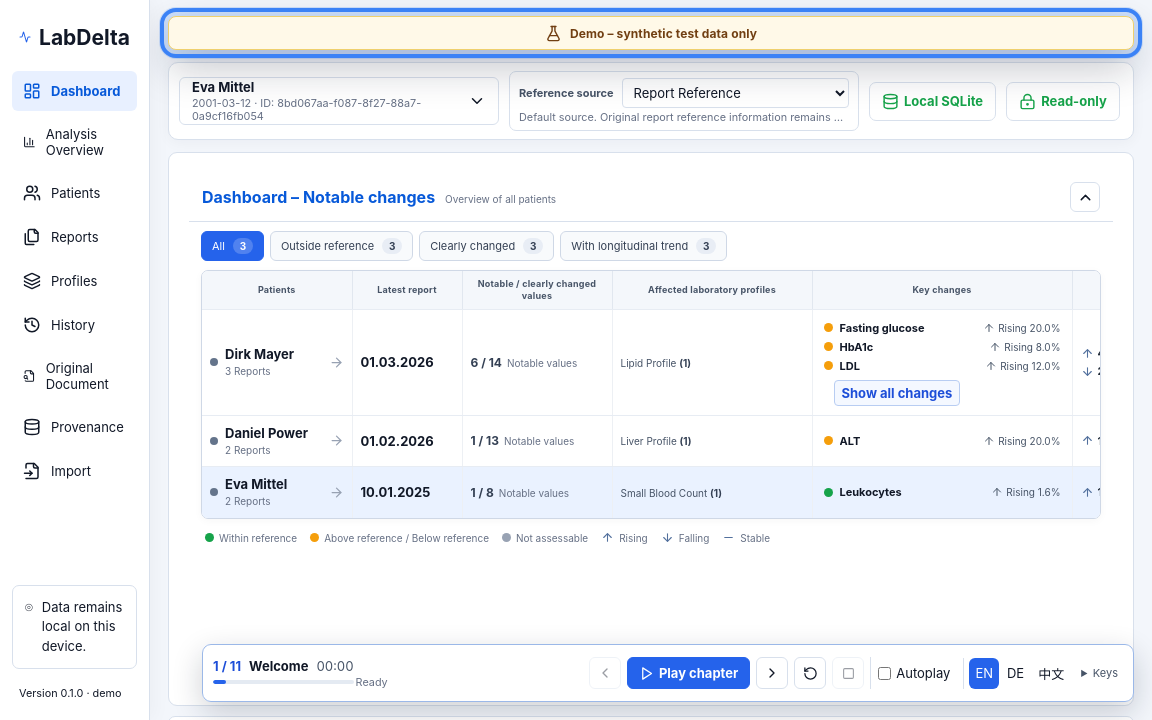
Scenario: persisted synthetic demo flow › persists simplified Chinese and applies it without restart
Expected: the heading "Dashboard – Notable changes" is shown, [202, 187, 435, 207]
Click the button "中文".
click(1051, 673)  # box [1032, 658, 1070, 688]
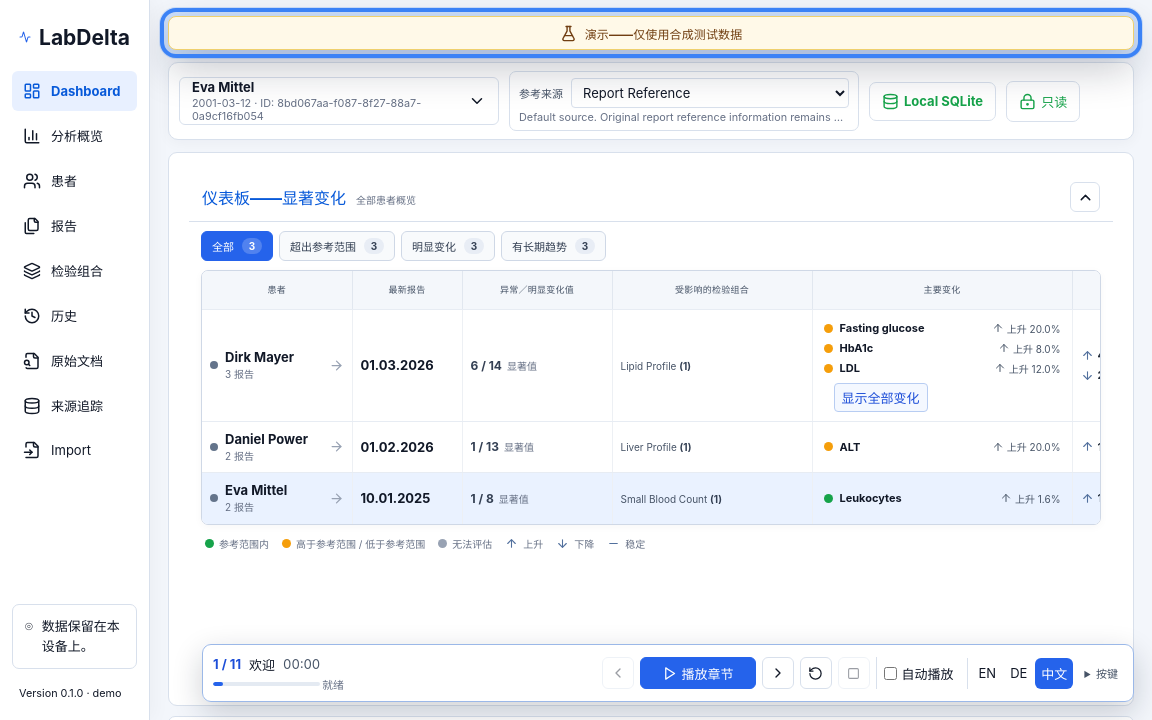
Expected: the heading "仪表板——显著变化" is shown, [202, 185, 346, 209]
Expected: the navigation bar named "主导航" is shown, [12, 71, 137, 470]
